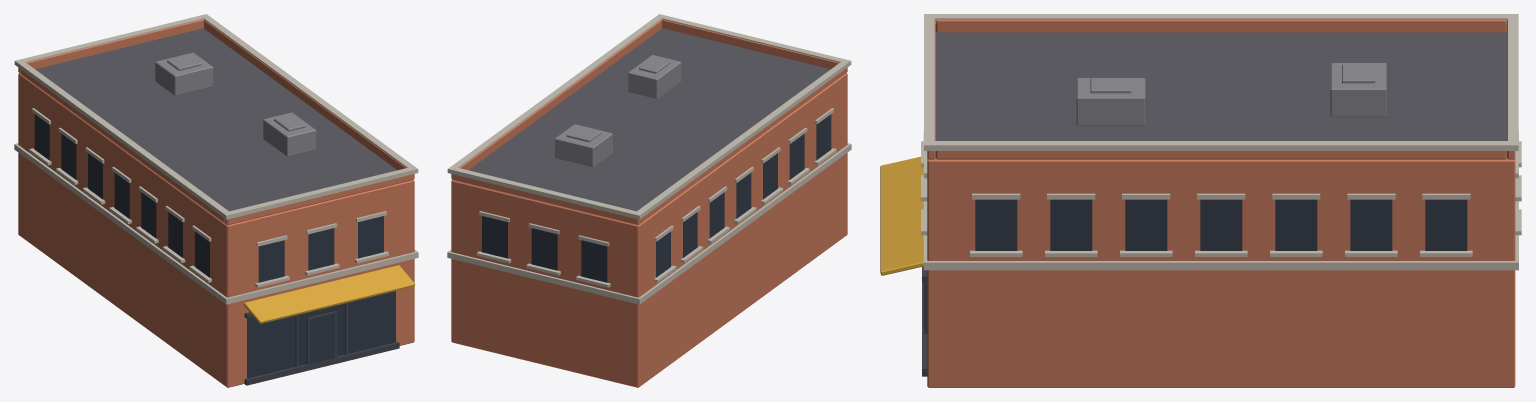
File: Shop.fbx
The picture shows the model from 3 angles, left to right: view 1: azimuth 30°, elevation 25°; view 2: azimuth 150°, elevation 25°; view 3: azimuth 270°, elevation 25°; orthographic projection. The views are drawn at different scales.
Parts seen in each view (by area): view 1: Shop_Body, Shop_Roof, Shop_Windows, Shop_Trim, Shop_Awning, Shop_RoofUnits, Shop_Frame, Shop_Door; view 2: Shop_Body, Shop_Roof, Shop_Trim, Shop_Windows, Shop_RoofUnits; view 3: Shop_Body, Shop_Roof, Shop_Trim, Shop_Windows, Shop_RoofUnits, Shop_Awning, Shop_Frame.
Boxes of the visible parts, left/top/right/bottom form: Shop_Body: left=18, top=19, right=414, bottom=387; Shop_Roof: left=35, top=28, right=396, bottom=211; Shop_Windows: left=34, top=114, right=395, bottom=378; Shop_Trim: left=14, top=14, right=418, bottom=304; Shop_Awning: left=244, top=265, right=415, bottom=323; Shop_RoofUnits: left=155, top=52, right=316, bottom=156; Shop_Frame: left=244, top=302, right=399, bottom=385; Shop_Door: left=310, top=313, right=334, bottom=364; Shop_Body: left=451, top=19, right=847, bottom=387; Shop_Roof: left=469, top=28, right=830, bottom=211; Shop_Trim: left=447, top=14, right=851, bottom=304; Shop_Windows: left=482, top=114, right=831, bottom=282; Shop_RoofUnits: left=555, top=55, right=681, bottom=167; Shop_Body: left=927, top=20, right=1515, bottom=387; Shop_Roof: left=935, top=31, right=1506, bottom=140; Shop_Trim: left=921, top=14, right=1521, bottom=270; Shop_Windows: left=975, top=199, right=1467, bottom=250; Shop_RoofUnits: left=1076, top=63, right=1386, bottom=125; Shop_Awning: left=880, top=156, right=923, bottom=275; Shop_Frame: left=922, top=266, right=927, bottom=376.
Size of the model in its own units: 30.2 by 27.7 by 61.07.
